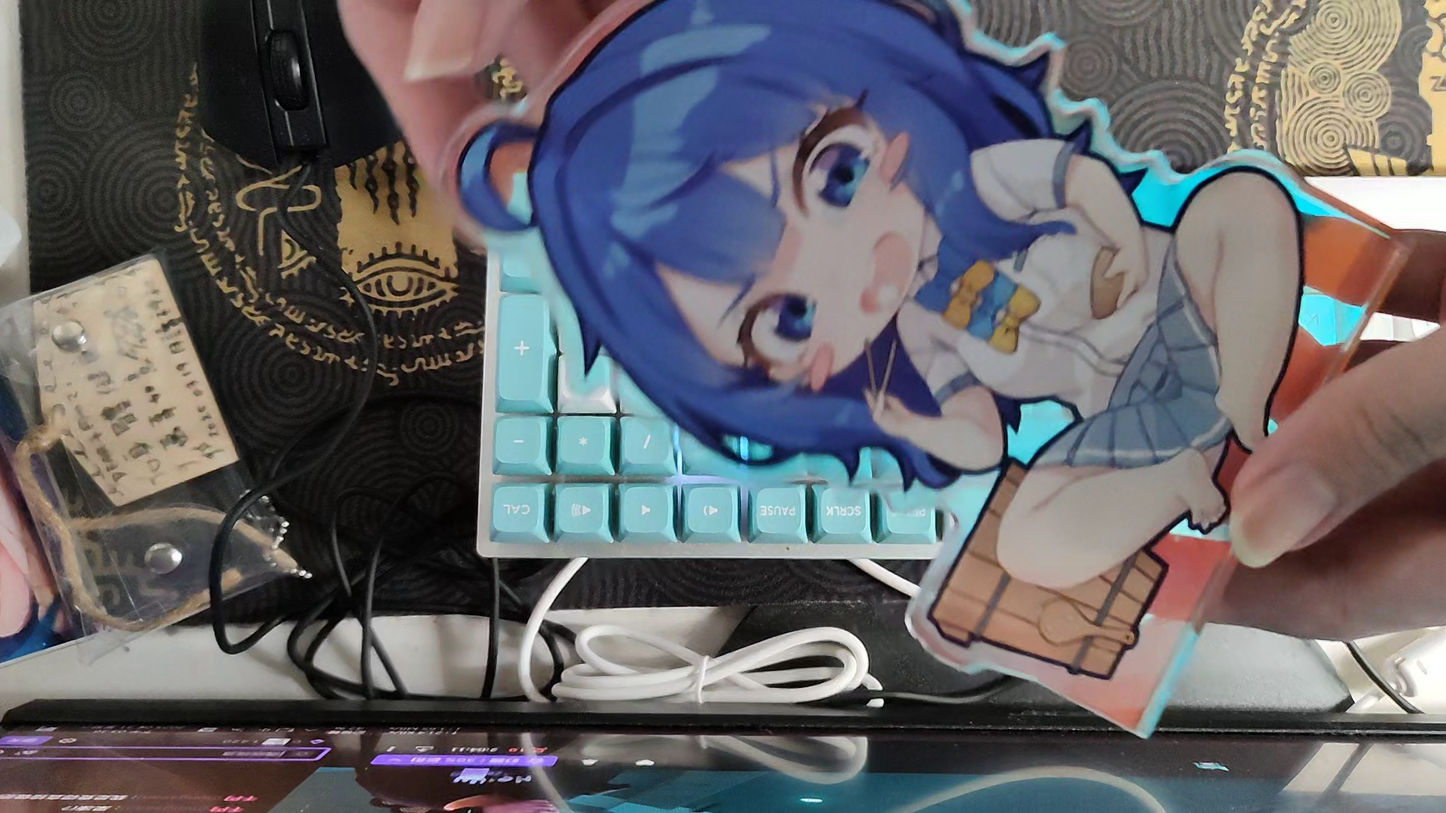Yanami-anna: (439, 0, 1406, 740)
